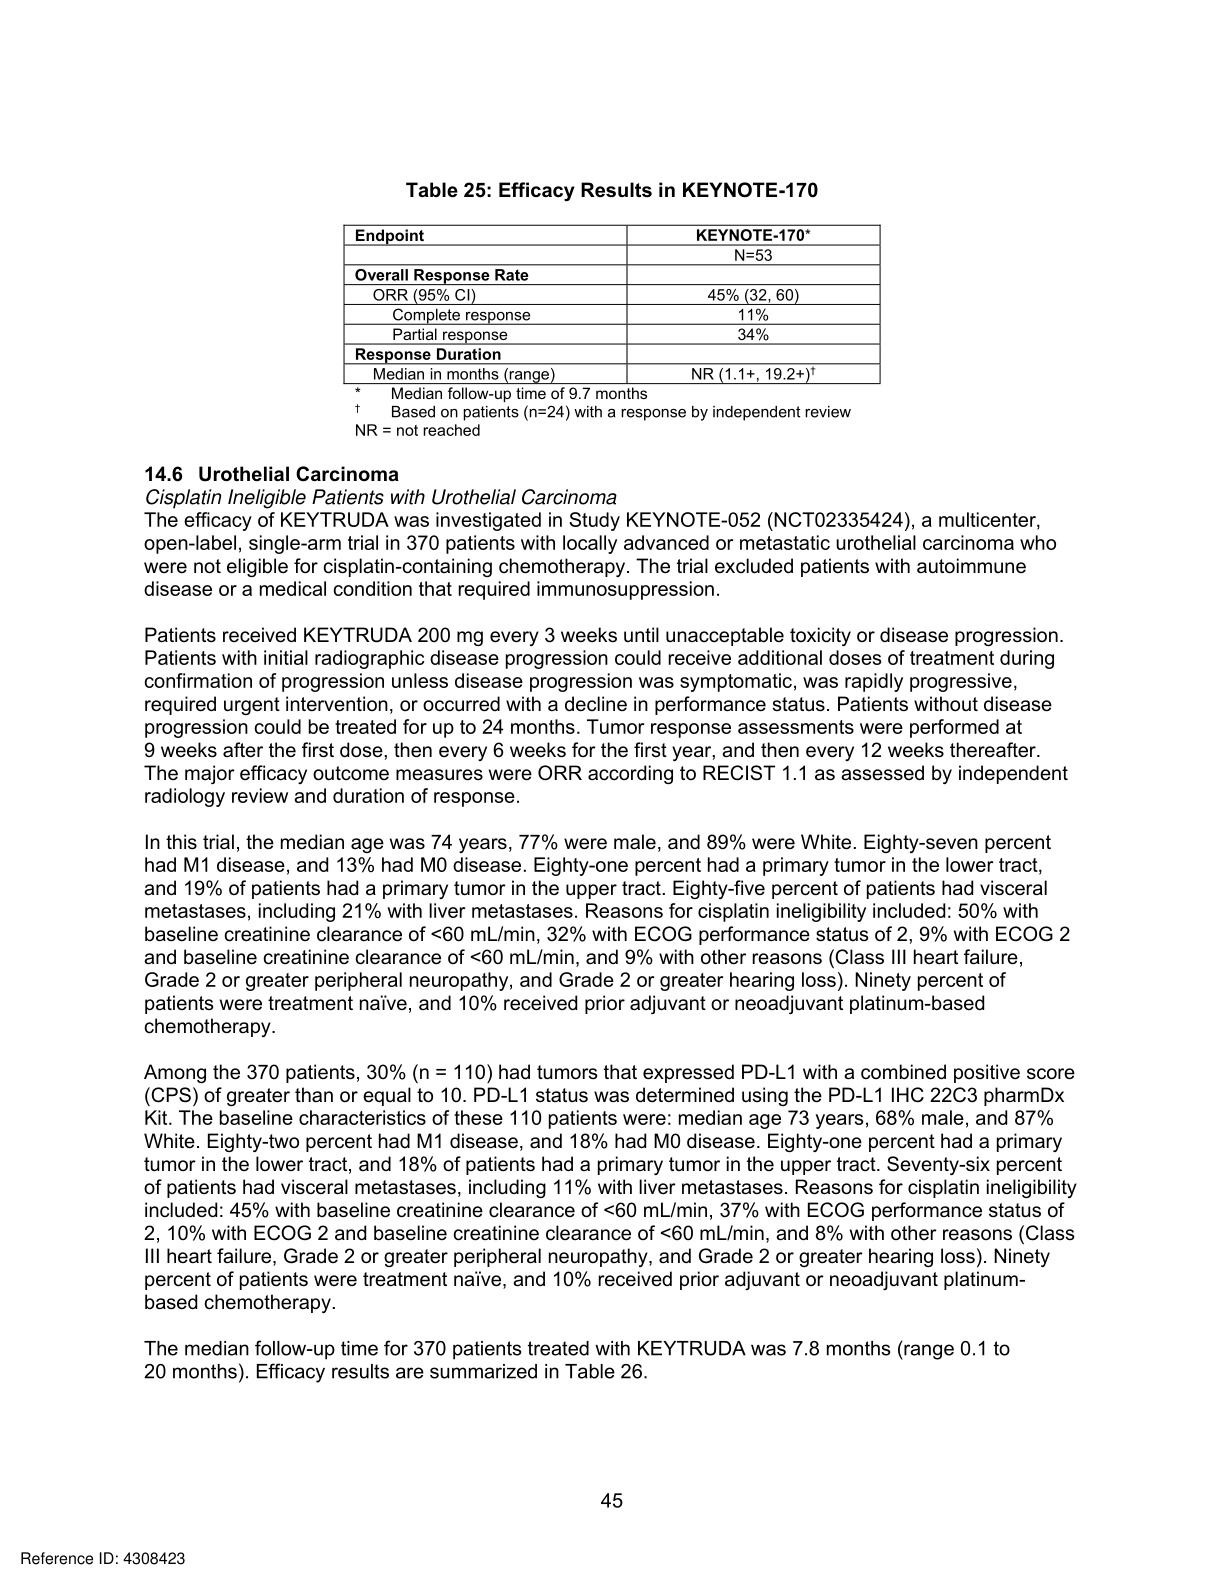full_lined: (339, 221, 888, 384)
